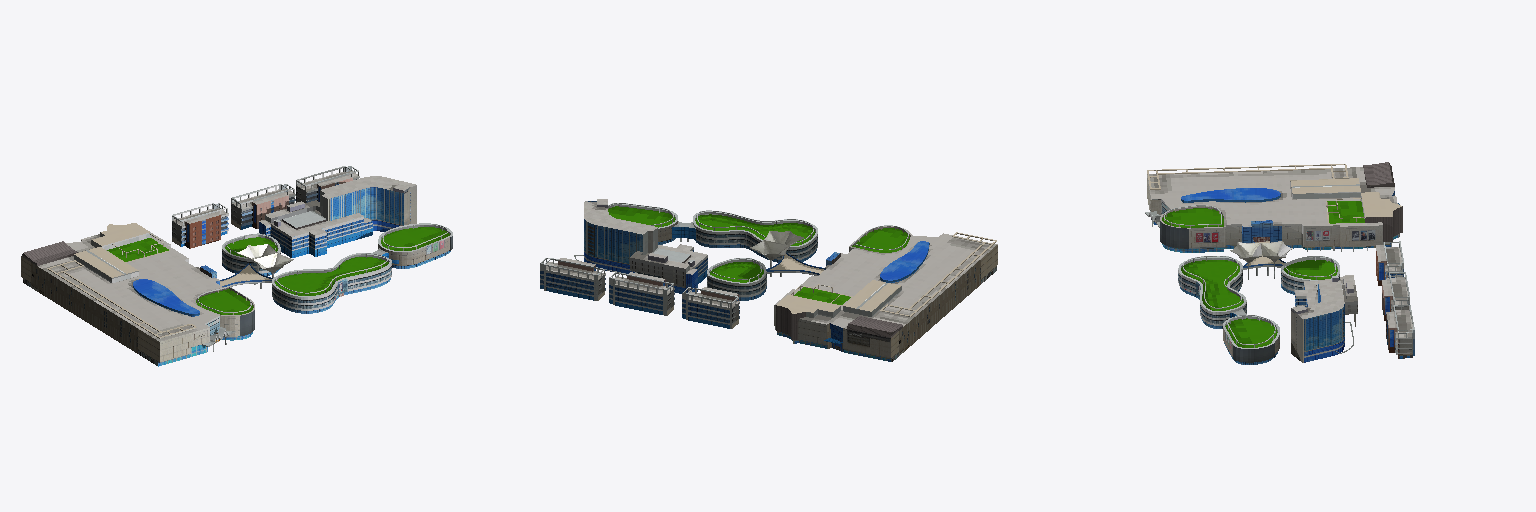
The picture shows the model from 3 angles: view 1: azimuth 30°, elevation 25°; view 2: azimuth 150°, elevation 25°; view 3: azimuth 270°, elevation 25°; orthographic projection.
Parts seen in each view (by area): view 1: ����01, ����03, ����02; view 2: ����01, ����03, ����02; view 3: ����01, ����03, ����02.
Boxes of the visible parts, x1,y1,x2,y2 form: ����01: [21, 223, 293, 366]; ����03: [172, 166, 416, 257]; ����02: [222, 223, 452, 313]; ����01: [750, 225, 997, 361]; ����03: [540, 199, 739, 328]; ����02: [608, 203, 817, 300]; ����01: [1145, 162, 1402, 279]; ����03: [1291, 241, 1414, 362]; ����02: [1178, 256, 1339, 364].
Size of the model in its own units: 322 by 40.28 by 211.
Materials: 3 (3 with a texture image).